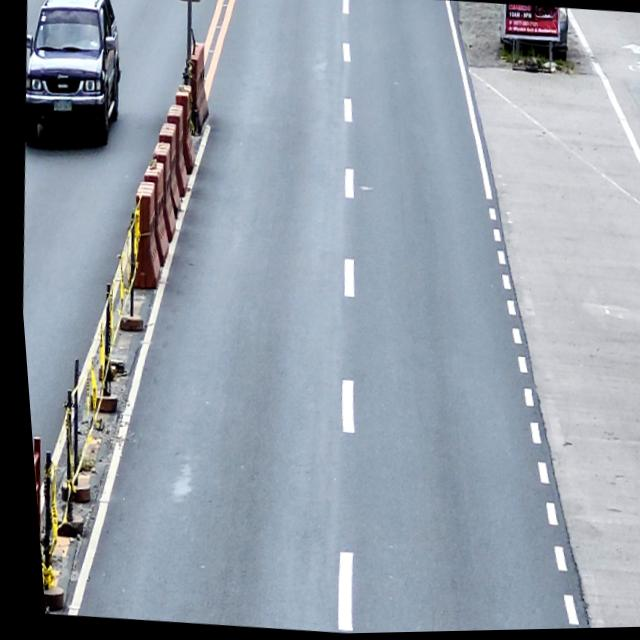Car: (14, 0, 132, 156)
License-Plate: (49, 99, 71, 113)
